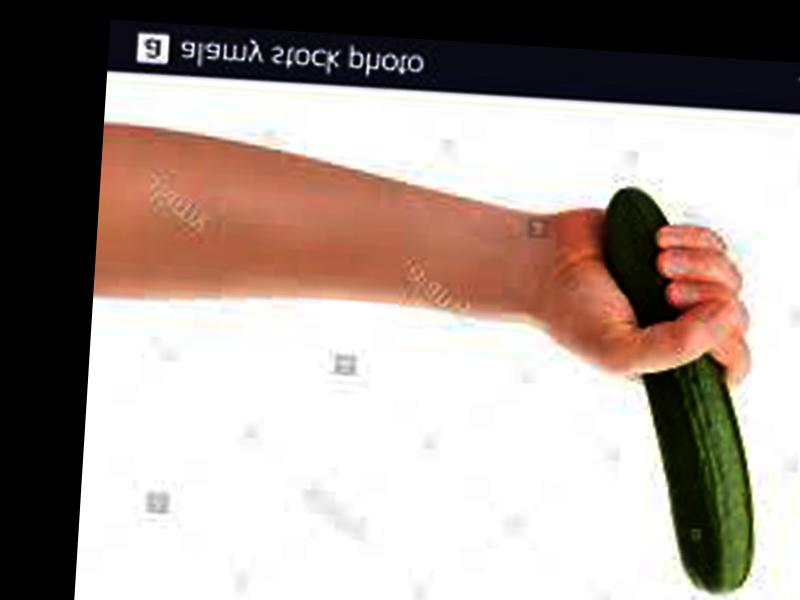Cucumber: (586, 187, 776, 594)
